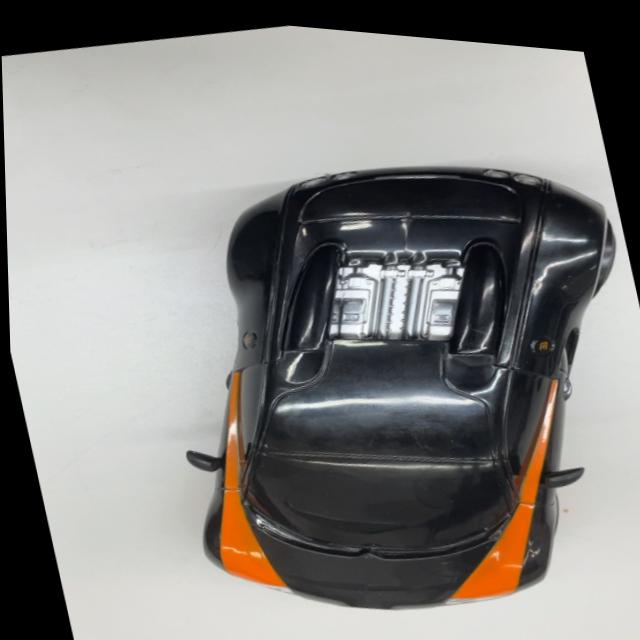vehicle_body: (125, 105, 640, 640)
